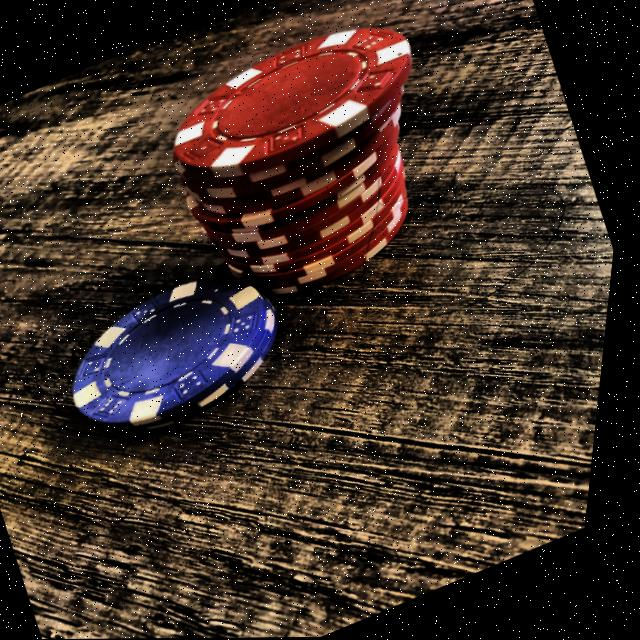Chip: (131, 0, 497, 332), (44, 250, 315, 463)
